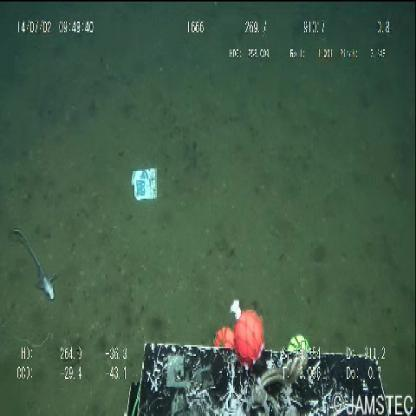Rác: (131, 168, 158, 204)
